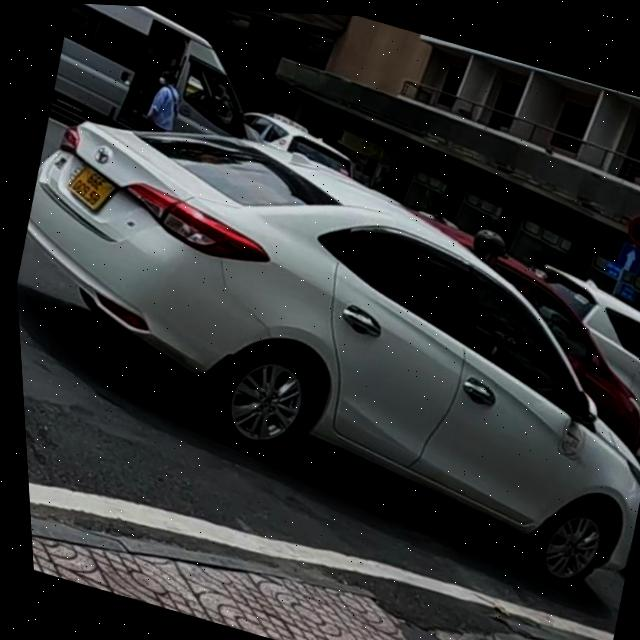car: (4, 72, 640, 611)
plate: (59, 157, 121, 218)
